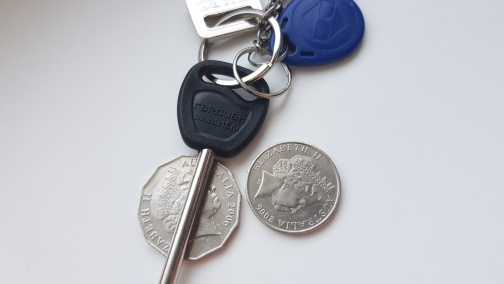coin: (136, 153, 243, 263), (245, 141, 341, 234)
